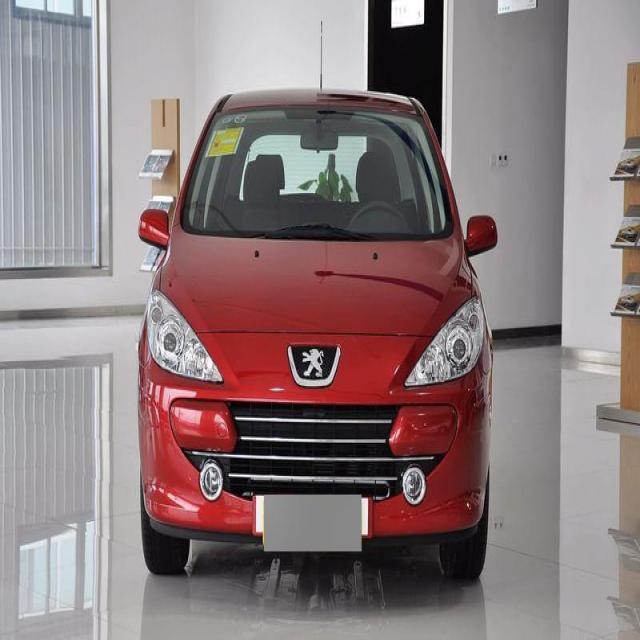front_bumper: (138, 328, 492, 535)
front_glass: (179, 105, 453, 236)
front_left_side_light: (398, 291, 487, 390)
front_left_side_mirror: (464, 212, 498, 256)
front_right_side_light: (144, 284, 226, 386)
front_right_side_mirror: (138, 204, 172, 259)
